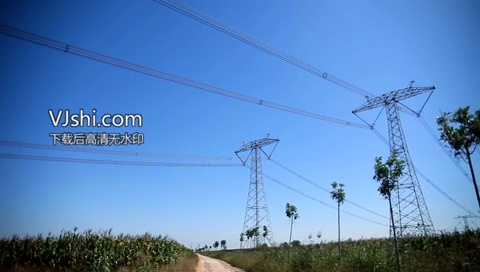tower_body: (345, 79, 439, 239), (226, 131, 284, 253)
tower_foot: (391, 205, 435, 235), (239, 222, 279, 249)
tower_head: (349, 83, 433, 112), (230, 135, 282, 154)
